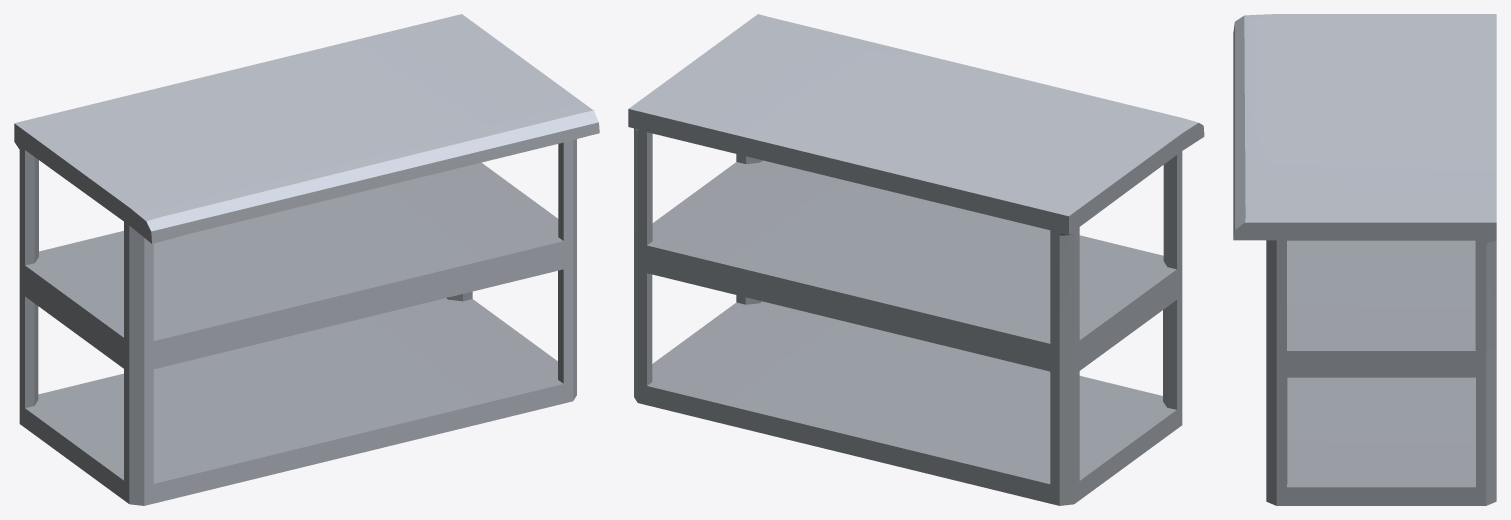
The model's file is MetalShelfing_Mesh.fbx.
3 renders of one model, left to right at view 1: azimuth 30°, elevation 25°; view 2: azimuth 150°, elevation 25°; view 3: azimuth 270°, elevation 25°, orthographic. The views are drawn at different scales.
Parts seen in each view (by area): view 1: MetalShelfing_Mesh; view 2: MetalShelfing_Mesh; view 3: MetalShelfing_Mesh.
Part boxes in pixels (<box>): MetalShelfing_Mesh: <box>14,14,599,505</box>; MetalShelfing_Mesh: <box>628,14,1204,505</box>; MetalShelfing_Mesh: <box>1233,14,1496,505</box>.
Bounding box in the file's own units: 150 × 95 × 79.99.
1 material, 1 textured.
